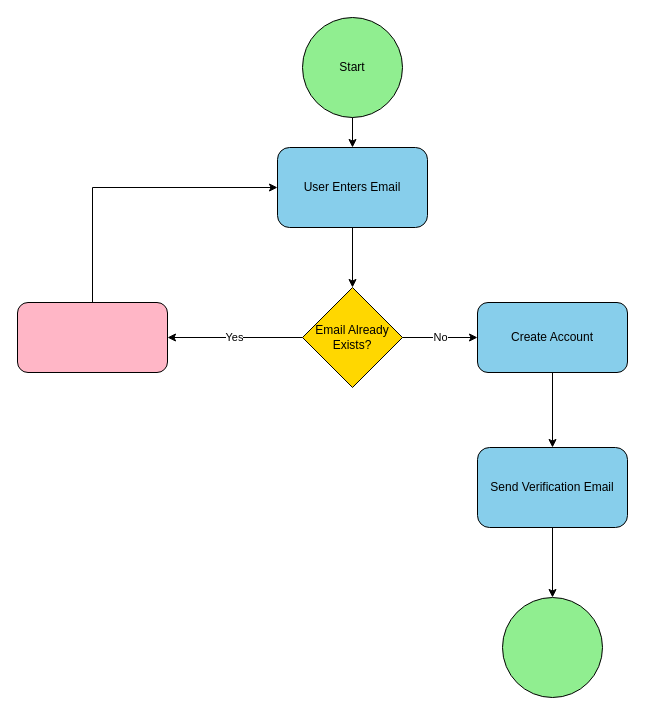
The diagram is 645 pixels wide and 715 high, and some of its shapes have lost their labels. The shapes that lost their labels are listed below. From the top down, each one's centre as x and y in pixels, then its label:
At [92,337]: "Show Error Message".
At [552,647]: "Done".
